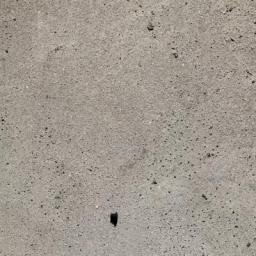FOD: (107, 209, 123, 230)
